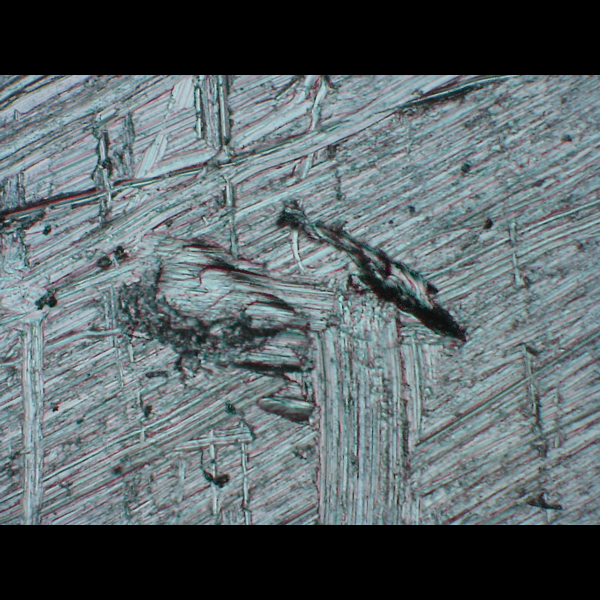d: (40, 193, 475, 434)
